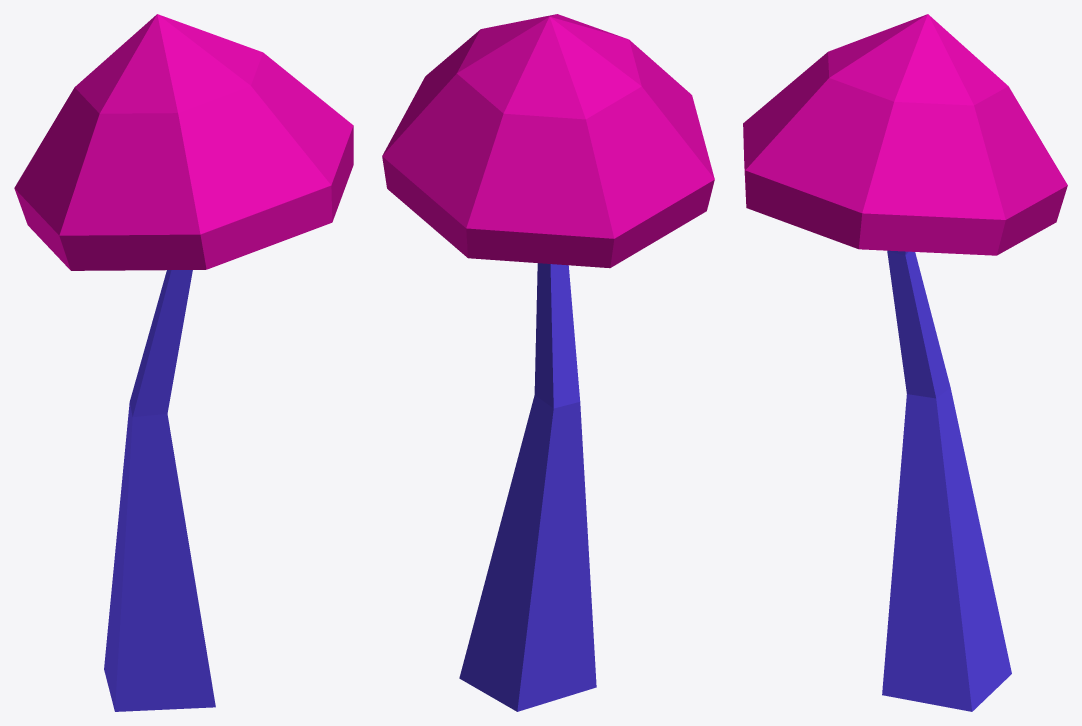
File: 060_mushroom.fbx
The picture shows the model from 3 angles, left to right: view 1: azimuth 30°, elevation 25°; view 2: azimuth 150°, elevation 25°; view 3: azimuth 270°, elevation 25°; orthographic projection. The views are drawn at different scales.
Parts seen in each view (by area): view 1: MUSHROOM; view 2: MUSHROOM; view 3: MUSHROOM.
Boxes of the visible parts, x1,y1,x2,y2 form: MUSHROOM: [14, 14, 353, 711]; MUSHROOM: [382, 14, 714, 711]; MUSHROOM: [743, 14, 1067, 711].
Size of the model in its own units: 45.86 by 101 by 44.79.
